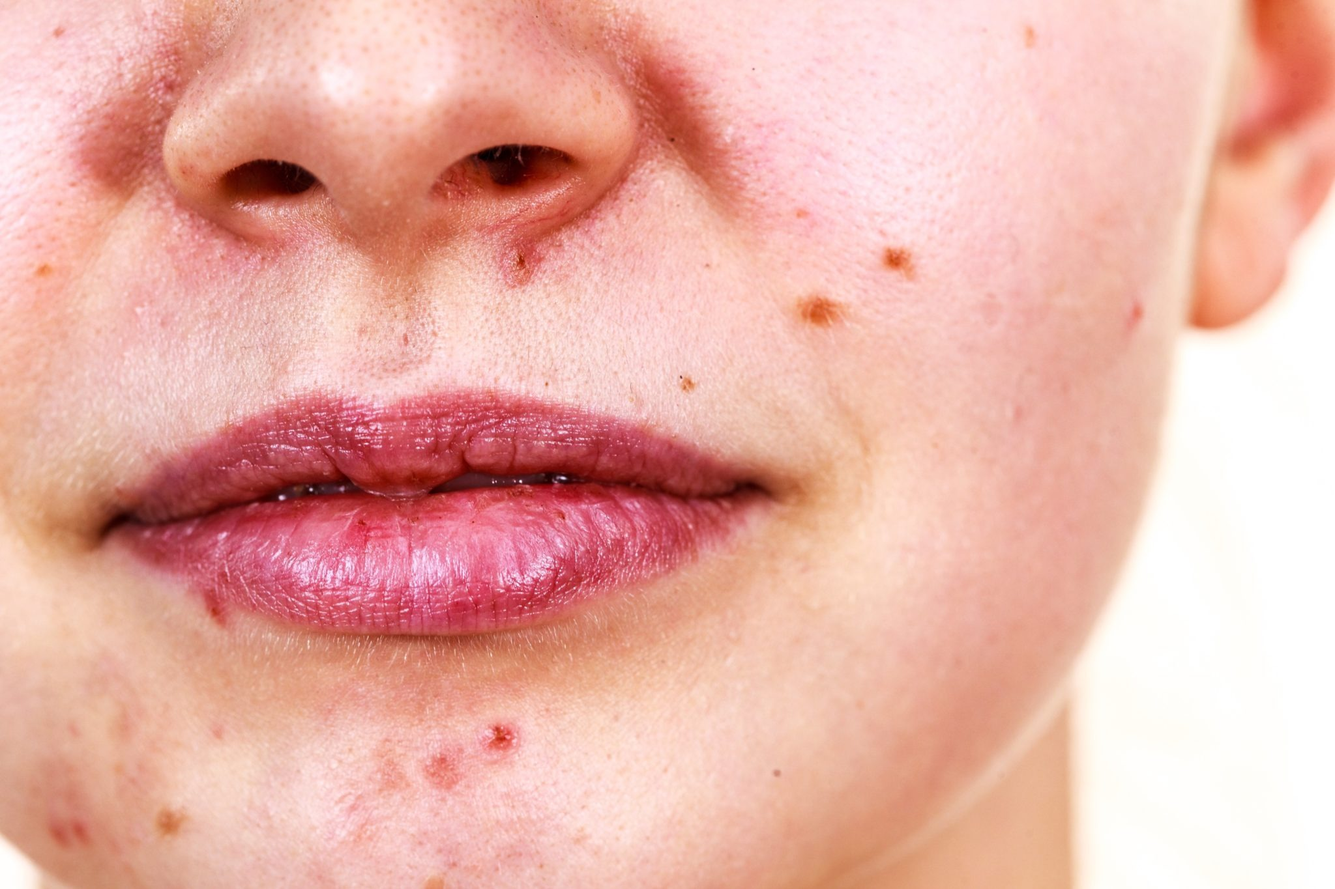Acne: (64, 638, 585, 883)
